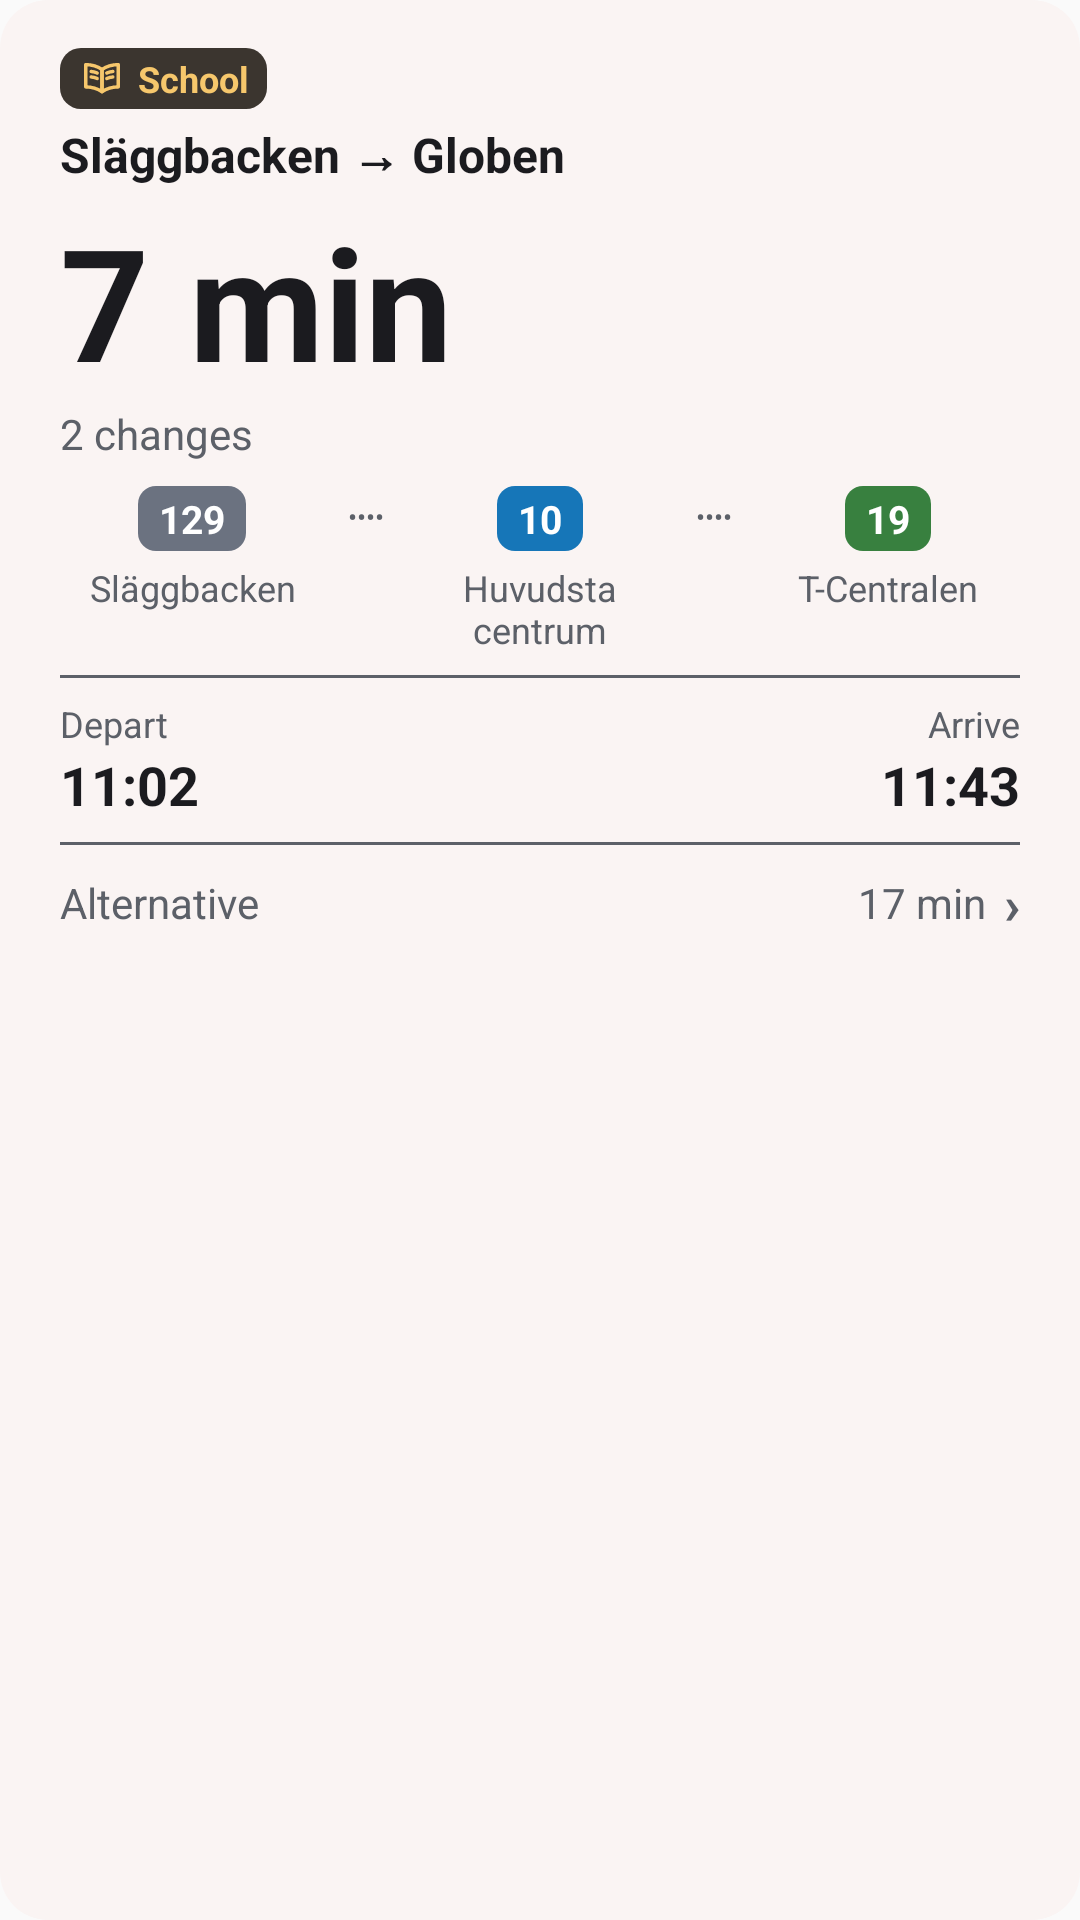

Point at icon controls on the screen. Image size 1080x1920, points as (x=x, y=y).
label study: (x=102, y=78)
